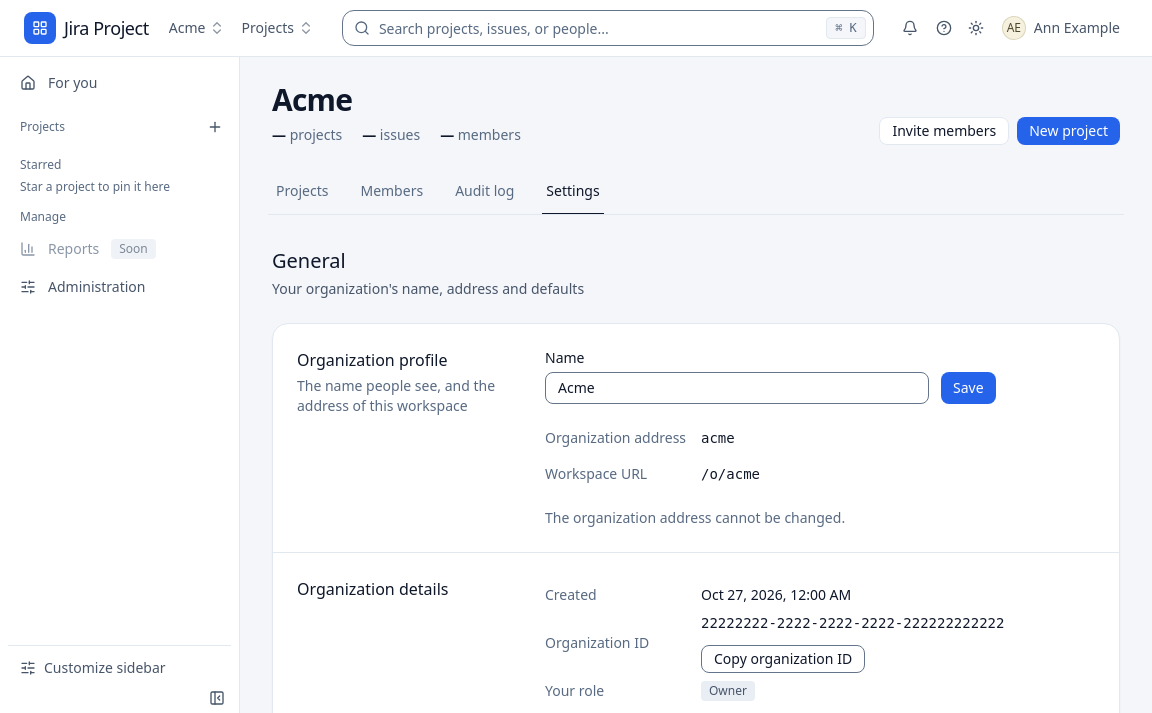
Test: OrgSettingsPage (legacy /settings) › renames the organization with the CSRF token
Replace the text in the field labelled "Name" with "Acme 2": (737, 388) 545,372 -> 929,404
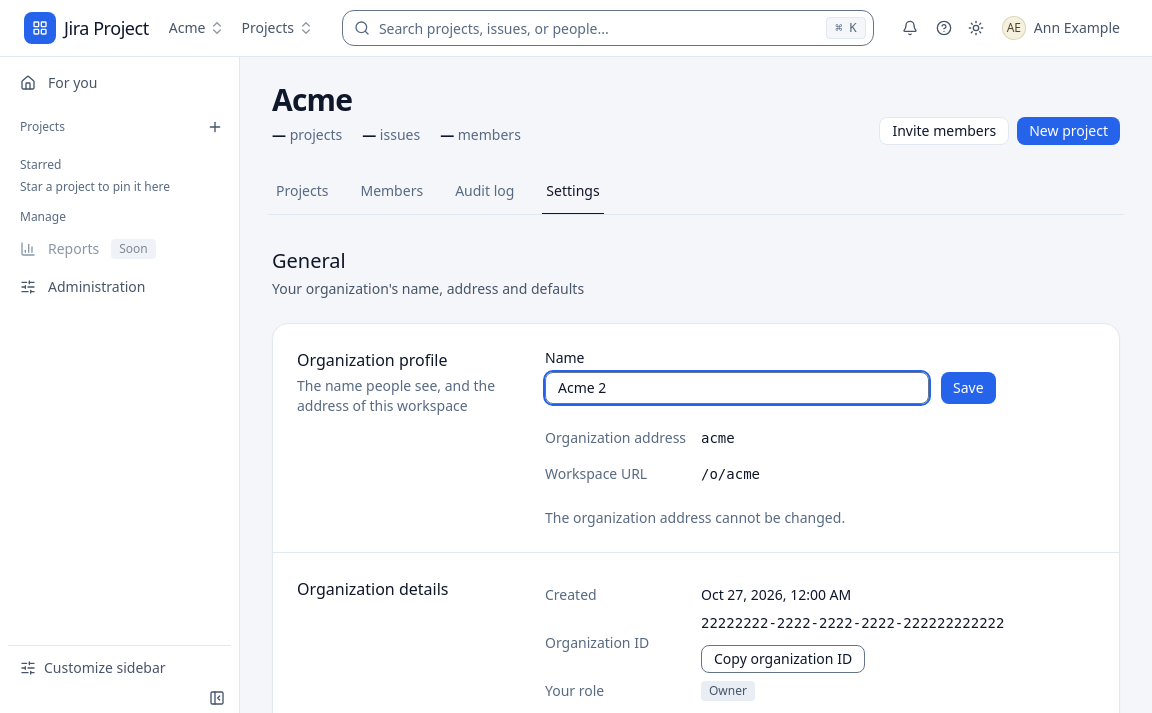
Click the button "Save": (968, 388) 941,372 -> 996,404
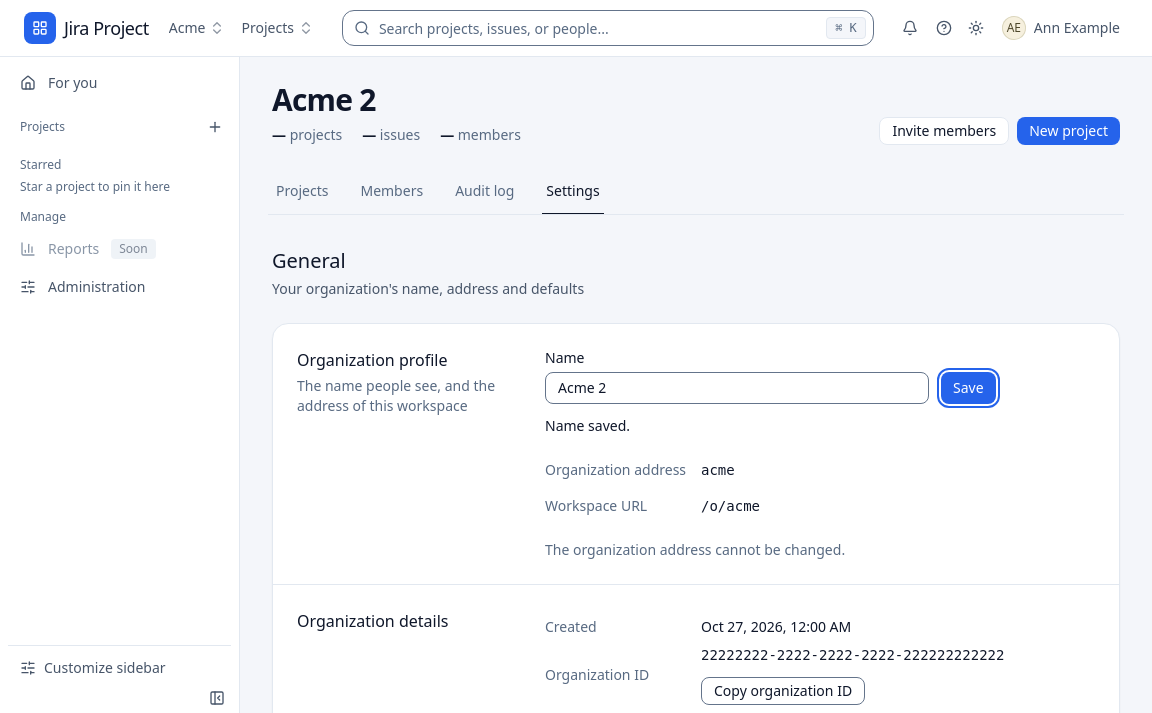
Check: the text "Name saved." is shown, box 545,416 -> 630,434
